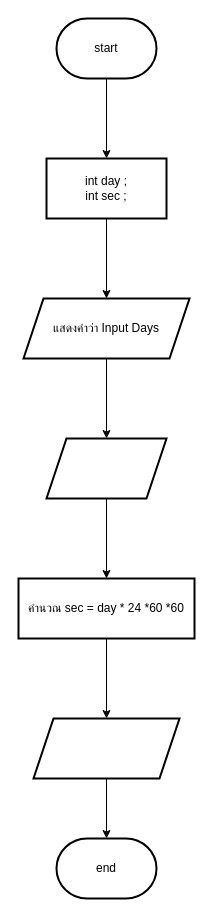
The diagram is 212 pixels wide and 916 high, and some of its shapes have lost their labels. The shapes that lost their labels are listed below. From the top down, each one's centre as x and y in pixels, then its label:
At (106,468): "รับค่า days".
At (106,748): "แสดงค่า วินาที (sec)".
